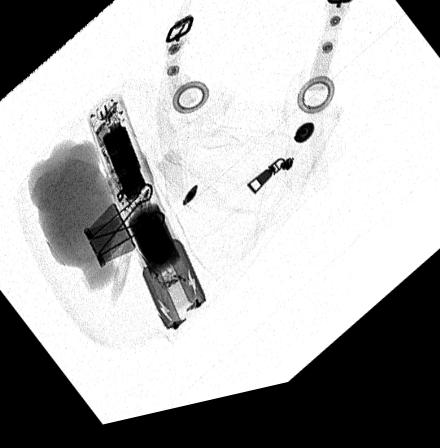Baton: (84, 98, 208, 338)
